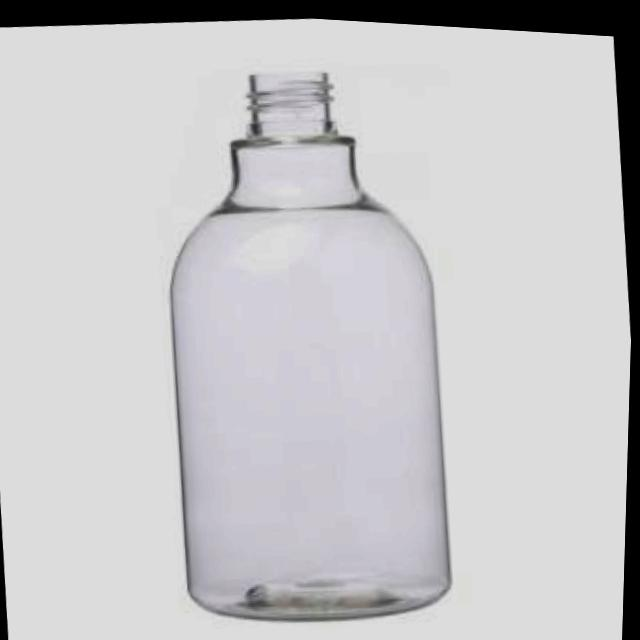anorganik: (127, 36, 484, 640)
